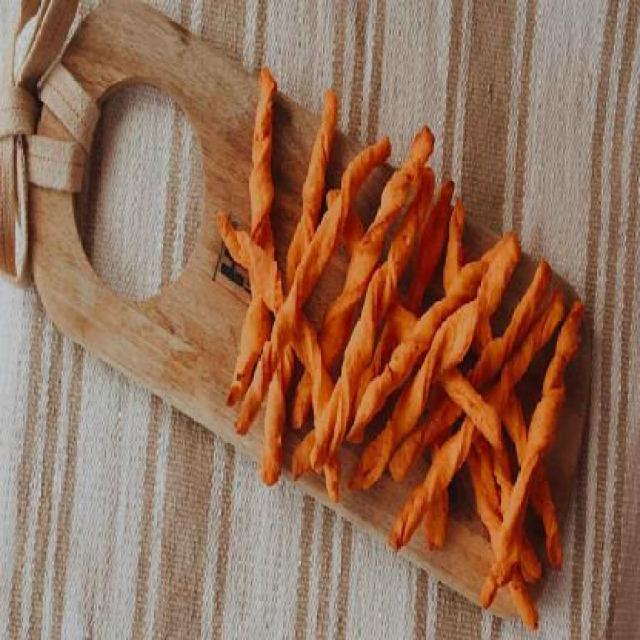Grissini: (215, 56, 588, 622)
